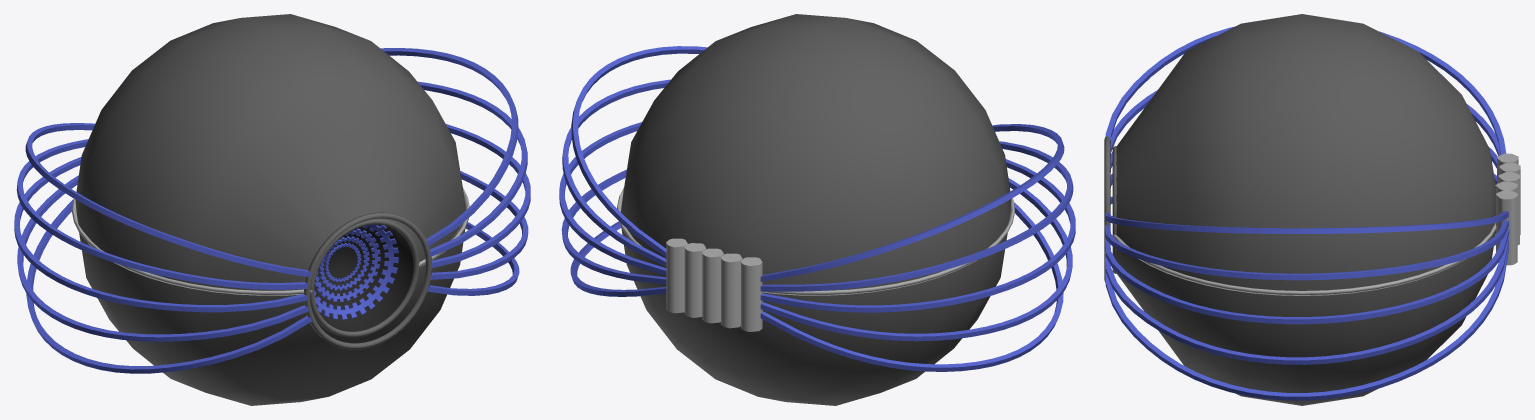
Rendered from Deathstar 00%.fbx.
3 views of the same model, side by side, from view 1: azimuth 30°, elevation 25°; view 2: azimuth 150°, elevation 25°; view 3: azimuth 270°, elevation 25° (orthographic).
Visible parts, largest first — view 1: pSphere28, pCube11, pSphere8, pCylinder17, pTorus3, pTorus1, pTorus2; view 2: pSphere28, pCube11, pCylinder19, pTorus2; view 3: pSphere28, pCube11, pCylinder19, pTorus2, pTorus3, pTorus1.
Part boxes in pixels (bbox=[...]): pSphere28: bbox=[75, 14, 465, 405]; pCube11: bbox=[14, 48, 530, 373]; pSphere8: bbox=[314, 224, 413, 331]; pCylinder17: bbox=[314, 224, 398, 319]; pTorus3: bbox=[304, 212, 432, 349]; pTorus1: bbox=[310, 219, 419, 337]; pTorus2: bbox=[72, 187, 469, 295]; pSphere28: bbox=[621, 14, 1011, 405]; pCube11: bbox=[559, 46, 1075, 371]; pCylinder19: bbox=[666, 238, 762, 331]; pTorus2: bbox=[617, 188, 1014, 295]; pSphere28: bbox=[1116, 14, 1495, 405]; pCube11: bbox=[1105, 26, 1509, 400]; pCylinder19: bbox=[1496, 153, 1520, 265]; pTorus2: bbox=[1112, 183, 1496, 295]; pTorus3: bbox=[1104, 136, 1110, 282]; pTorus1: bbox=[1112, 146, 1116, 273].
Size of the model in its own units: 1457 by 1072 by 1131.
